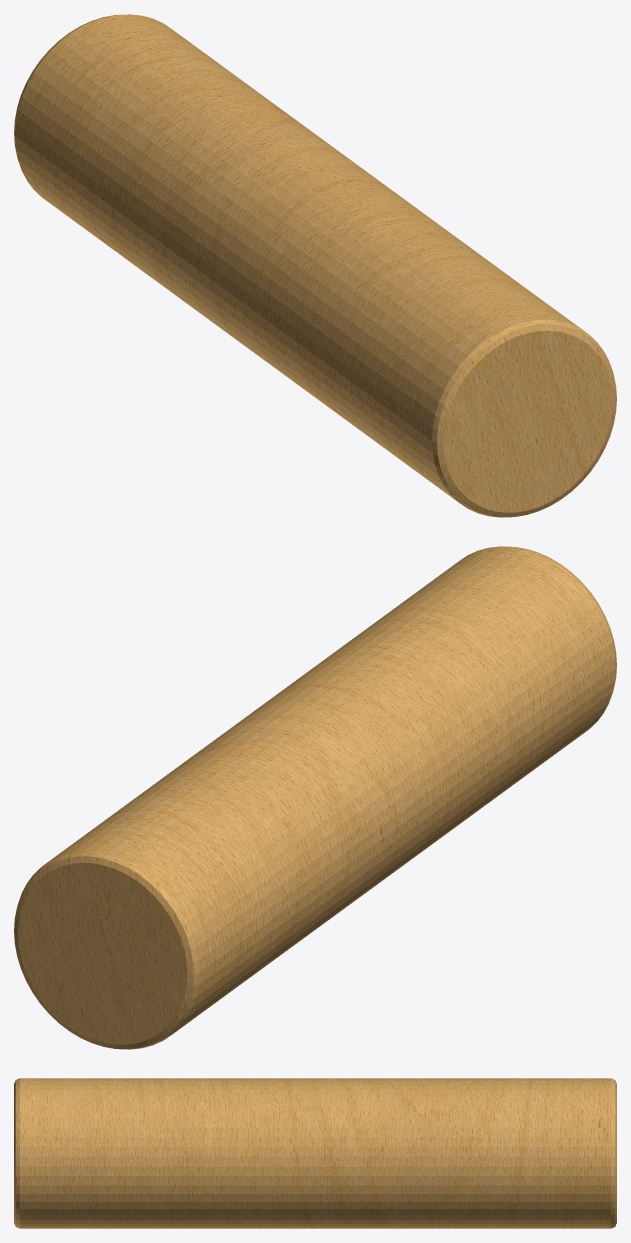
3 renders of one model, top to bottom at view 1: azimuth 30°, elevation 25°; view 2: azimuth 150°, elevation 25°; view 3: azimuth 270°, elevation 25°, orthographic. The views are drawn at different scales.
Visible parts, largest first — view 1: bolt_large_target_point; view 2: bolt_large_target_point; view 3: bolt_large_target_point.
Part boxes in pixels (x1,y1,x2,y2): bolt_large_target_point: (14,14,616,517); bolt_large_target_point: (14,546,616,1049); bolt_large_target_point: (14,1078,616,1228).
Size of the model in its own units: 0.02 by 0.02 by 0.08.
Materials: 1 (1 with a texture image).
